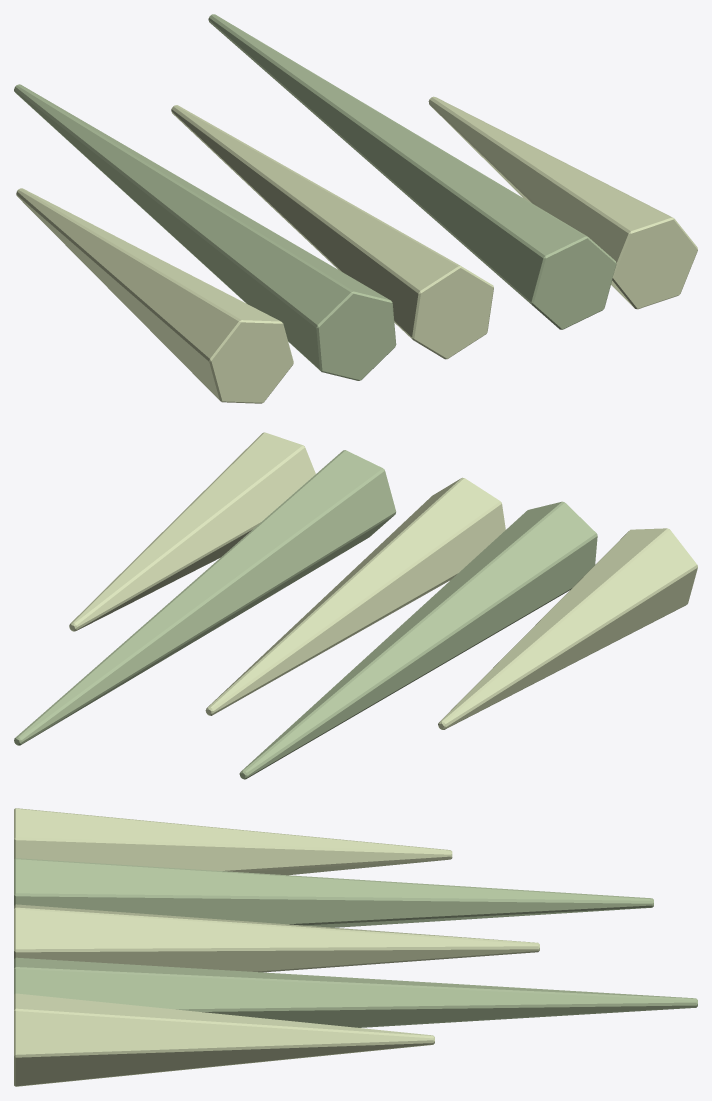
The model's file is Yard_Grass_Clump.fbx.
3 renders of one model, top to bottom at view 1: azimuth 30°, elevation 25°; view 2: azimuth 150°, elevation 25°; view 3: azimuth 270°, elevation 25°, orthographic. The views are drawn at different scales.
Visible parts, largest first — view 1: Grass_Blade.003, Grass_Blade.001, Grass_Blade.002, Grass_Blade, Grass_Blade.004; view 2: Grass_Blade.003, Grass_Blade.001, Grass_Blade.002, Grass_Blade, Grass_Blade.004; view 3: Grass_Blade.003, Grass_Blade.001, Grass_Blade.004, Grass_Blade.002, Grass_Blade.
Boxes of the visible parts, x1,y1,x2,y2 form: Grass_Blade.003: [208, 14, 616, 329]; Grass_Blade.001: [14, 84, 396, 380]; Grass_Blade.002: [171, 105, 493, 359]; Grass_Blade: [16, 188, 293, 403]; Grass_Blade.004: [428, 96, 697, 309]; Grass_Blade.003: [14, 450, 396, 745]; Grass_Blade.001: [239, 501, 597, 779]; Grass_Blade.002: [205, 477, 505, 715]; Grass_Blade: [438, 528, 697, 729]; Grass_Blade.004: [69, 432, 315, 631]; Grass_Blade.003: [14, 957, 697, 1027]; Grass_Blade.001: [14, 858, 653, 927]; Grass_Blade.004: [14, 993, 434, 1086]; Grass_Blade.002: [14, 904, 539, 972]; Grass_Blade: [14, 808, 452, 875].
Bounding box in the file's own units: 60.62 × 10.76 × 78.
